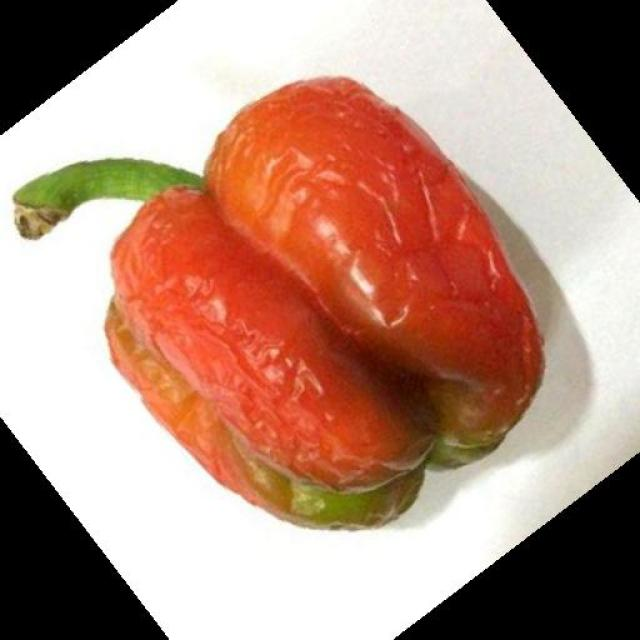Stale_Capsicum: (89, 57, 572, 525)
